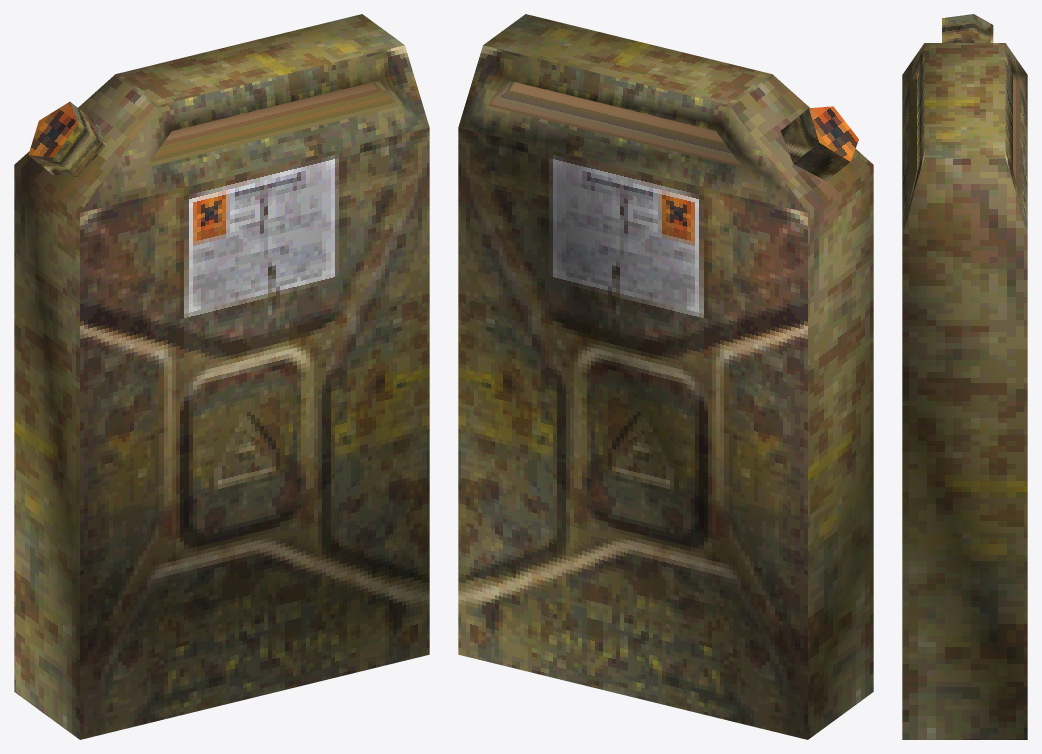
The model's file is kanistra.glb.
3 renders of one model, left to right at view 1: azimuth 30°, elevation 25°; view 2: azimuth 150°, elevation 25°; view 3: azimuth 270°, elevation 25°, orthographic. The views are drawn at different scales.
Parts seen in each view (by area): view 1: GasCan; view 2: GasCan; view 3: GasCan.
Part boxes in pixels (x1,y1,x2,y2): GasCan: (14, 14, 429, 739); GasCan: (458, 14, 873, 739); GasCan: (902, 14, 1027, 739).
Bounding box in the file's own units: 0.7179 × 1.14 × 0.2247.
Materials: 1 (1 with a texture image).
